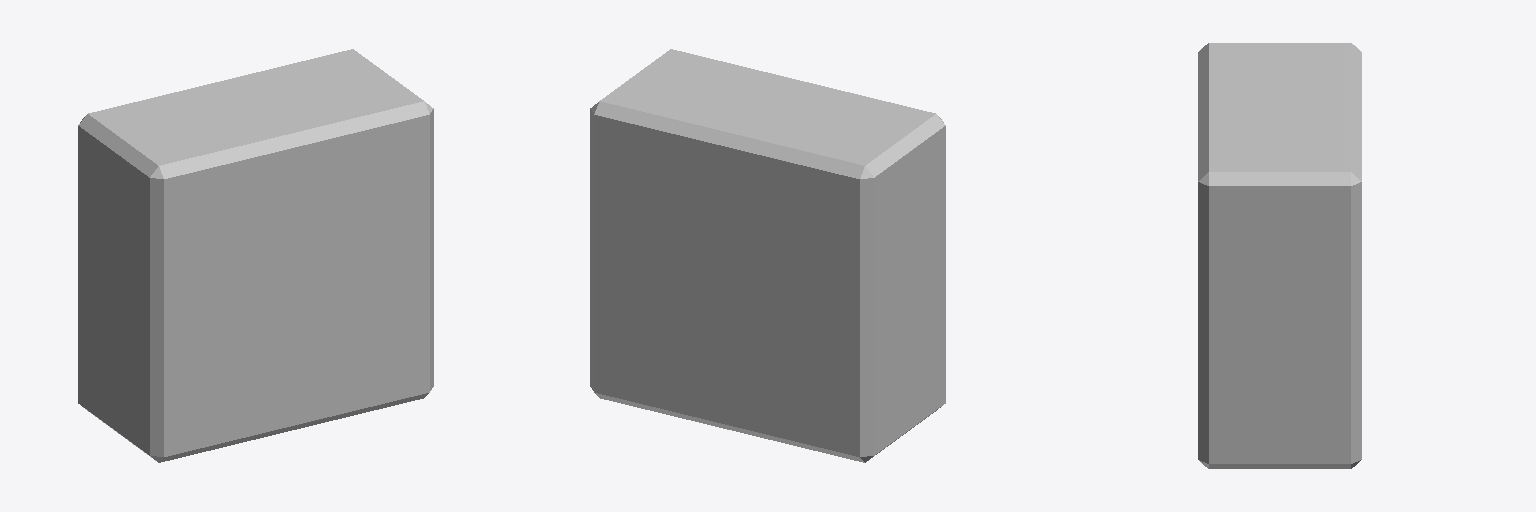
File: Torso.obj
3 views of the same model, side by side, from view 1: azimuth 30°, elevation 25°; view 2: azimuth 150°, elevation 25°; view 3: azimuth 270°, elevation 25° (orthographic).
Parts seen in each view (by area): view 1: BlockyTorso1; view 2: BlockyTorso1; view 3: BlockyTorso1.
Part boxes in pixels (left/top/right/bottom): BlockyTorso1: left=78, top=49, right=433, bottom=462; BlockyTorso1: left=590, top=49, right=945, bottom=462; BlockyTorso1: left=1198, top=43, right=1361, bottom=468.
Bounding box in the file's own units: 2 × 2 × 1.